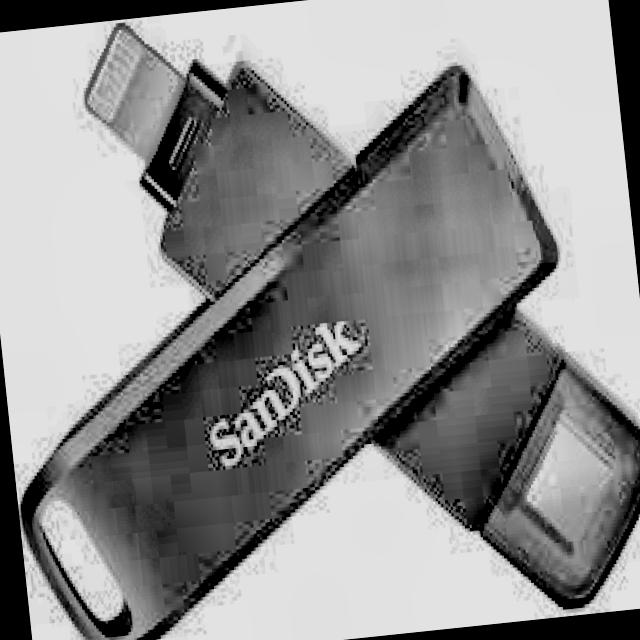Mug: (28, 20, 639, 617)
